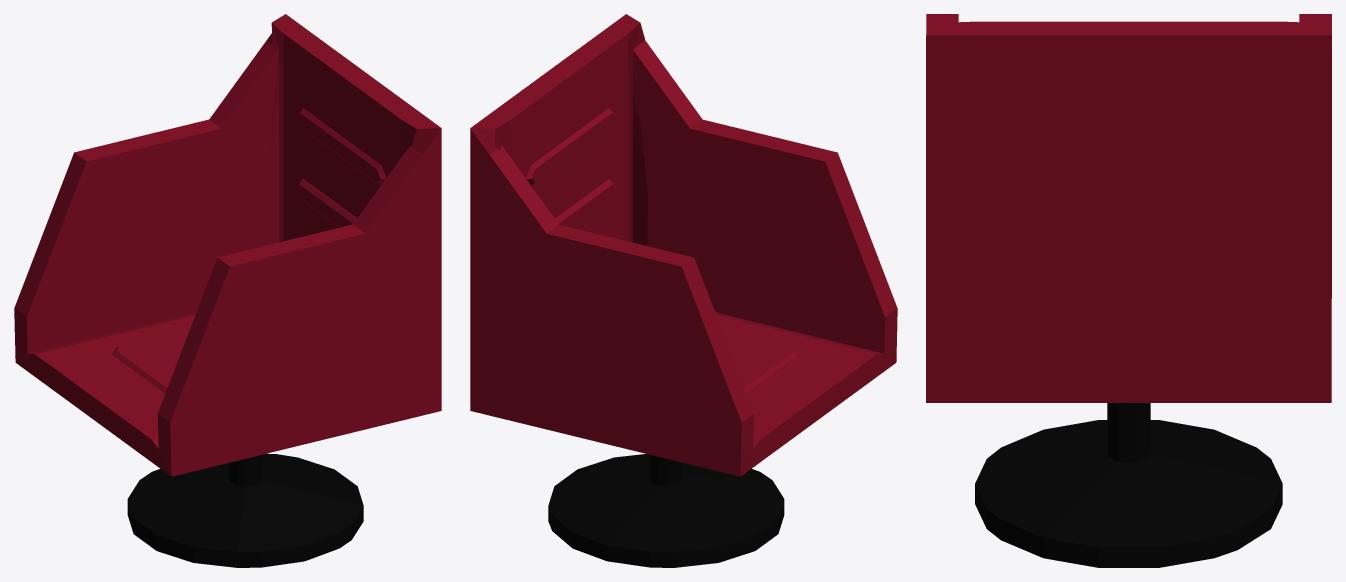
The model's file is chear.fbx.
3 views of the same model, side by side, from view 1: azimuth 30°, elevation 25°; view 2: azimuth 150°, elevation 25°; view 3: azimuth 270°, elevation 25° (orthographic). The views are drawn at different scales.
Visible parts, largest first — view 1: Sześcian, Walec; view 2: Sześcian, Walec; view 3: Sześcian, Walec.
Boxes of the visible parts, box(x1,y1,x2,y2) form: Sześcian: box(14, 14, 441, 476); Walec: box(127, 453, 363, 567); Sześcian: box(470, 14, 897, 476); Walec: box(548, 454, 784, 567); Sześcian: box(926, 14, 1331, 402); Walec: box(975, 403, 1282, 567).
Size of the model in its own units: 201 by 296 by 200.
